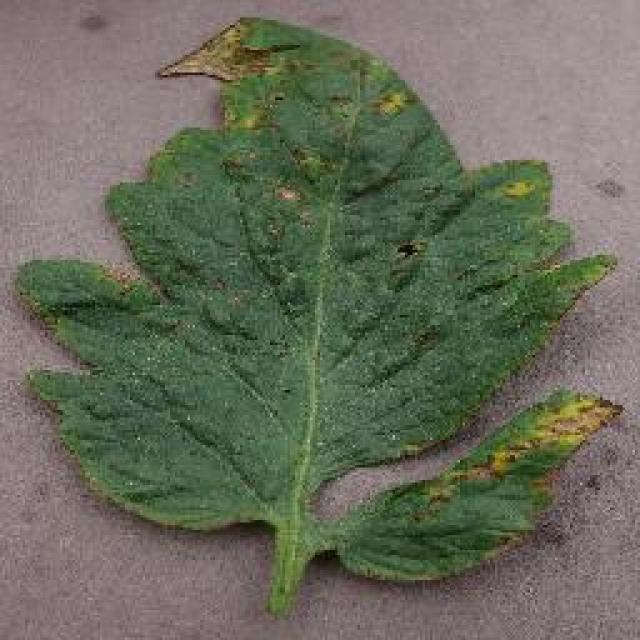Tomato bacterial spot leaf: (11, 15, 628, 590)
